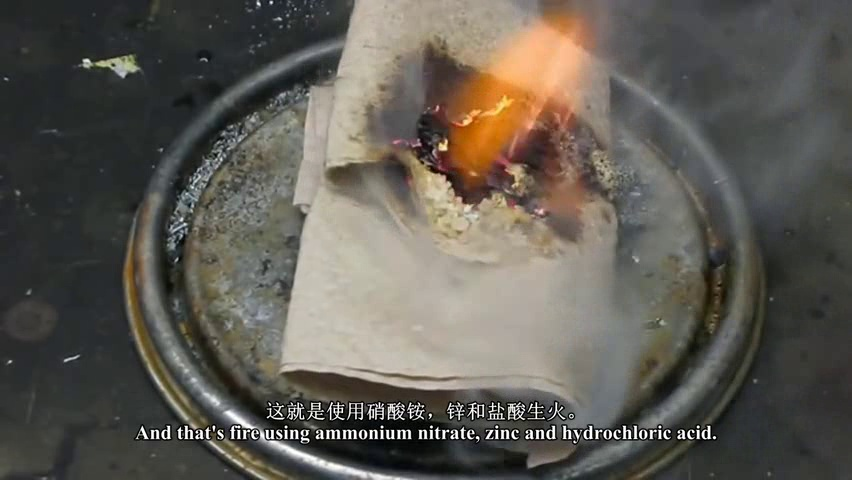fire: (440, 9, 598, 204)
